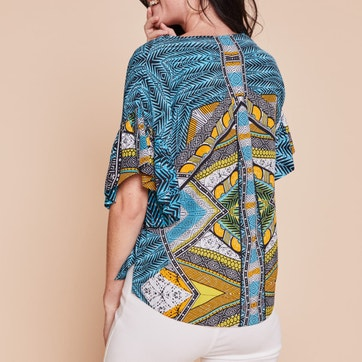C_short blouse: (101, 35, 306, 331)
